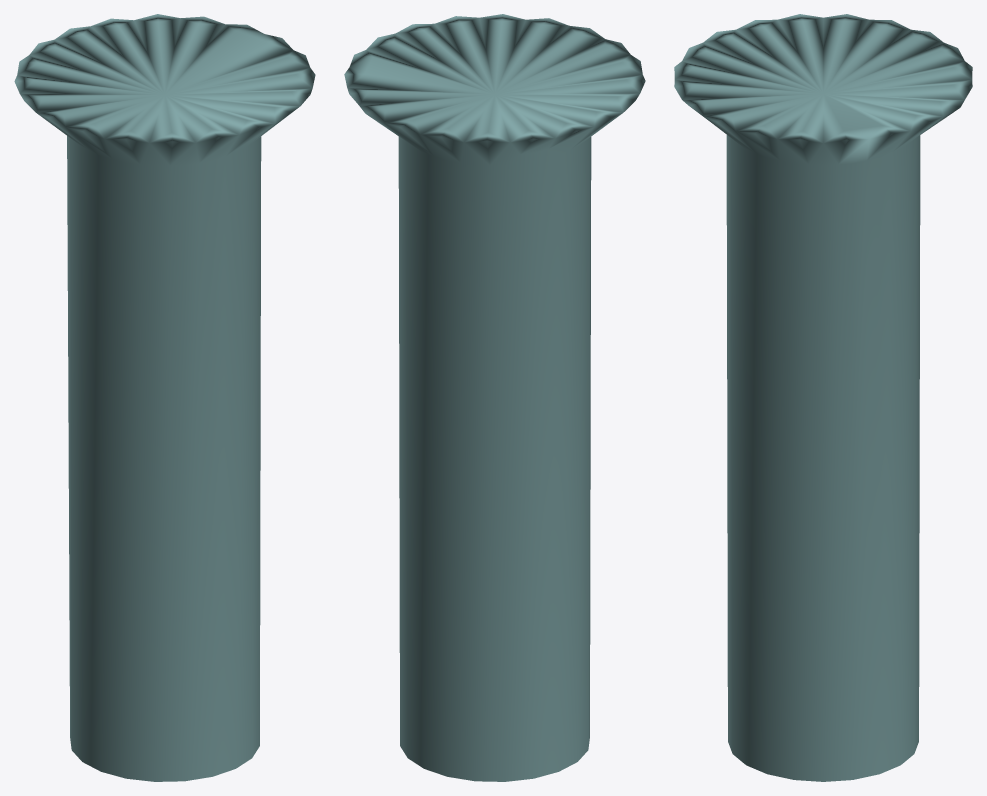
File: chorro de agua.fbx
3 views of the same model, side by side, from view 1: azimuth 30°, elevation 25°; view 2: azimuth 150°, elevation 25°; view 3: azimuth 270°, elevation 25° (orthographic).
Parts seen in each view (by area): view 1: pCylinder1; view 2: pCylinder1; view 3: pCylinder1.
Boxes of the visible parts, bbox=[...] form: pCylinder1: bbox=[14, 14, 315, 781]; pCylinder1: bbox=[344, 14, 645, 781]; pCylinder1: bbox=[674, 14, 972, 781].
Bounding box in the file's own units: 3.96 × 9.74 × 3.96.
